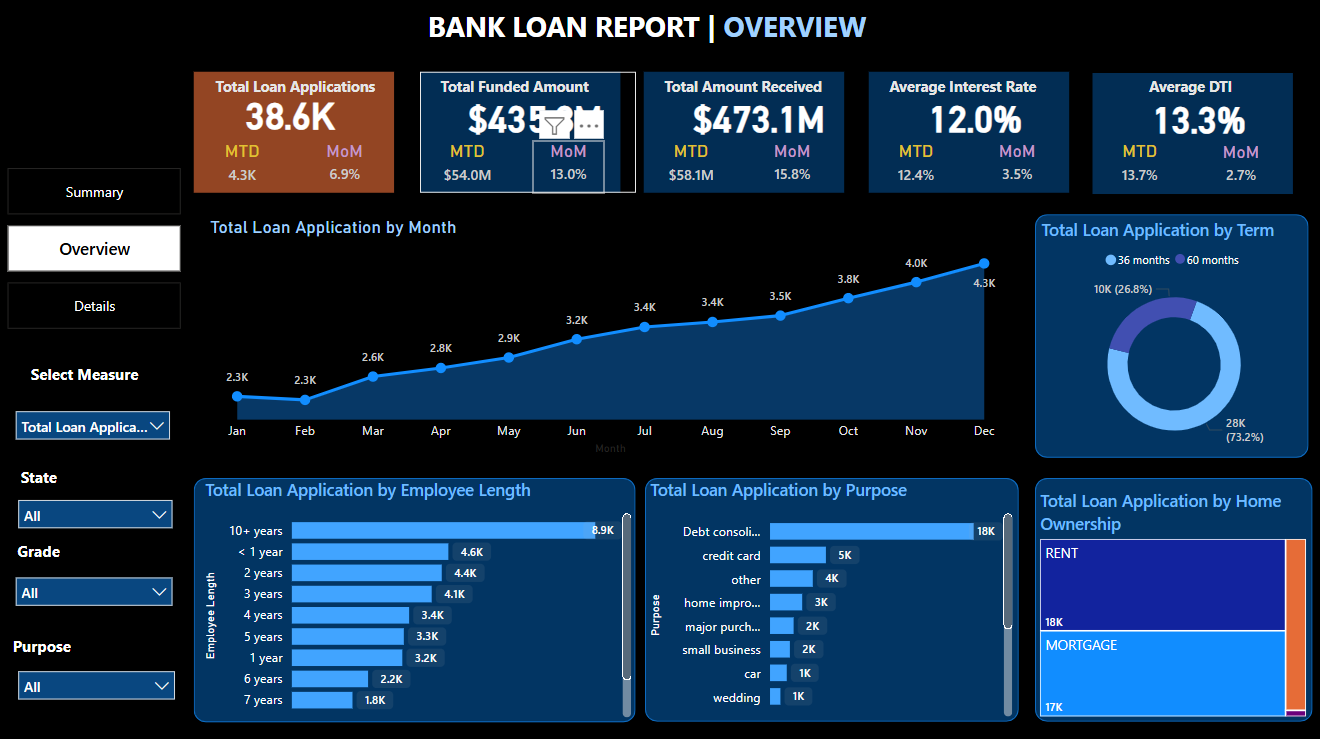

The page's visual inventory and layout, read from the dashboard file:
{"tool":"powerbi","page":{"name":"Overview","canvas":[1280,720],"ordinal":1},"visuals":[{"type":"shape","box":[0,55.5,194.2,664.5],"z":0},{"type":"shape","box":[410.2,71.3,193.7,117],"z":0,"group":"g3"},{"type":"shape","box":[626.7,71.3,193.7,117],"z":0,"group":"g4"},{"type":"shape","box":[843.2,71.3,193.7,117],"z":0,"group":"g5"},{"type":"shape","box":[192.3,71.4,193.7,117],"z":0,"group":"g1"},{"type":"shape","box":[1059.7,71.9,193.7,117],"z":0,"group":"g6"},{"type":"shape","box":[0,0,1280.3,55],"z":1000},{"type":"card","fields":{"Values":["bank_loan_data.Total Loan Application"]},"box":[228.8,76.7,113.6,69.9],"z":1000,"group":"g1"},{"type":"card","fields":{"Values":["bank_loan_data.Total Funded Amount"]},"box":[447.1,82,147.9,64.6],"z":1000,"group":"g3"},{"type":"card","fields":{"Values":["bank_loan_data.Total Amount Received"]},"box":[663.6,82,147.9,64.6],"z":1000,"group":"g4"},{"type":"card","fields":{"Values":["bank_loan_data.Avg Interest Rate"]},"box":[872.1,82.5,147.9,64.6],"z":1000,"group":"g5"},{"type":"card","fields":{"Values":["bank_loan_data.Avg DTI"]},"box":[1088.6,83.1,147.9,64.6],"z":1000,"group":"g6"},{"type":"textbox","box":[204.7,71.3,197.8,40.3],"z":2000,"group":"g1"},{"type":"textbox","box":[420.9,71.3,197.8,40.3],"z":2000,"group":"g3"},{"type":"textbox","box":[637.4,71.3,197.8,40.3],"z":2000,"group":"g4"},{"type":"textbox","box":[853.9,71.3,197.8,40.3],"z":2000,"group":"g5"},{"type":"textbox","box":[1070.1,71.3,169.4,40.3],"z":2000,"group":"g6"},{"type":"textbox","box":[21.7,347.3,136.3,41],"z":2000,"group":"g8"},{"type":"textbox","box":[12.1,447.4,95.3,31.4],"z":2000,"group":"g7"},{"type":"textbox","box":[12.1,517.4,83.2,31.4],"z":2000},{"type":"card","title":"MTD","fields":{"Values":["bank_loan_data.MTD Loan Applications"]},"box":[204.7,137.2,69.5,51.1],"z":3000,"group":"g1"},{"type":"card","title":"MTD","fields":{"Values":["bank_loan_data.MTD Funded Applications"]},"box":[420.9,137.2,69.5,51.1],"z":3000,"group":"g3"},{"type":"card","title":"MTD","fields":{"Values":["bank_loan_data.MTD Total Amount Received"]},"box":[637.4,137.2,69.5,51.1],"z":3000,"group":"g4"},{"type":"card","title":"MTD","fields":{"Values":["bank_loan_data.MTD Average Interest Rate"]},"box":[853.9,137.2,69.5,51.1],"z":3000,"group":"g5"},{"type":"card","title":"MTD","fields":{"Values":["bank_loan_data.MTD Average DTI"]},"box":[1070.4,137.8,69.5,51.1],"z":3000,"group":"g6"},{"type":"textbox","box":[9.6,607.8,156.8,31.4],"z":3000},{"type":"group","id":"g1","title":"Group 2","box":[192.3,71.3,210.2,117.1],"z":3005,"group":"g2"},{"type":"card","title":"MoM","fields":{"Values":["bank_loan_data.MoM Loan Applications"]},"box":[303,138.2,69.5,49.8],"z":4000,"group":"g1"},{"type":"card","title":"MoM","fields":{"Values":["bank_loan_data.MoM Total Funded Amount"]},"box":[519.1,138.2,69.5,49.8],"z":4000,"group":"g3"},{"type":"card","title":"MoM","fields":{"Values":["bank_loan_data.MoM Total Amount Received"]},"box":[735.6,138.2,69.5,49.8],"z":4000,"group":"g4"},{"type":"card","title":"MoM","fields":{"Values":["bank_loan_data.MoM Average Interest Rate"]},"box":[952.1,138.2,69.5,49.8],"z":4000,"group":"g5"},{"type":"card","title":"MoM","fields":{"Values":["bank_loan_data.MoM Average DTI"]},"box":[1168.6,138.9,69.5,49.8],"z":4000,"group":"g6"},{"type":"shape","box":[194.3,208.6,400,235],"z":4000},{"type":"esriVisual","fields":{"Size":["bank_loan_data.Total Amount Received"],"Location":["bank_loan_data.address_state"]},"box":[627.1,209.8,359.4,237.6],"z":5000},{"type":"textbox","box":[412.9,4,520.4,45.7],"z":6000},{"type":"group","id":"g2","title":"Group 1","box":[192.3,71.3,210.2,117.1],"z":7000},{"type":"group","id":"g3","title":"Group 2","box":[410.2,71.3,208.4,117],"z":8000},{"type":"group","id":"g4","title":"Group 2","box":[626.7,71.3,208.4,117],"z":9000},{"type":"group","id":"g5","title":"Group 2","box":[843.2,71.3,208.4,117],"z":10000},{"type":"group","id":"g6","title":"Group 2","box":[1059.7,71.3,193.7,117],"z":11000},{"type":"slicer","fields":{"Values":["bank_loan_data.address_state"]},"box":[12.1,474,168.8,43.4],"z":12000},{"type":"slicer","fields":{"Values":["bank_loan_data.grade"]},"box":[9.6,548.7,171.3,44.6],"z":13000},{"type":"slicer","fields":{"Values":["bank_loan_data.Good Vs Bad Loan"]},"box":[12.1,639.2,171.3,44.6],"z":14000},{"type":"group","id":"g7","title":"Group 2","box":[12.1,447.4,95.3,31.4],"z":15000},{"type":"areaChart","fields":{"Y":["bank_loan_data.Total Amount Received"],"Category":["Date Table.Month"]},"box":[202.6,211.1,378.7,235.2],"z":16000},{"type":"slicer","fields":{"Values":["Select Measure.Select Measure"]},"box":[9.6,388.3,168.8,43.4],"z":17000},{"type":"group","id":"g8","title":"Group 2","box":[21.7,347.3,136.3,41],"z":18000},{"type":"shape","box":[618.7,209.8,360.6,235.2],"z":19000},{"type":"shape","box":[1003.4,208.6,264.1,235.2],"z":20000},{"type":"donutChart","fields":{"Y":["bank_loan_data.Total Amount Received"],"Category":["bank_loan_data.term"]},"box":[1004.6,212.3,266.5,232.8],"z":21000},{"type":"shape","box":[191.8,463.1,400.4,235.2],"z":22000},{"type":"barChart","fields":{"Y":["bank_loan_data.Total Amount Received"],"Category":["bank_loan_data.emp_length"]},"box":[197.8,463.1,390.8,235.2],"z":23000},{"type":"shape","box":[627.1,463.1,360.6,235.2],"z":24000},{"type":"barChart","fields":{"Y":["bank_loan_data.Total Amount Received"],"Category":["bank_loan_data.purpose"]},"box":[627.1,463.1,359.4,235.2],"z":25000},{"type":"shape","box":[1003.4,463.1,267.7,235.2],"z":26000},{"type":"treemap","fields":{"Values":["bank_loan_data.Total Amount Received"],"Group":["bank_loan_data.home_ownership"]},"box":[1003.4,474,266.5,224.3],"z":27000},{"type":"pageNavigator","box":[12.1,164,168.8,158],"z":28000},{"type":"filledMap","title":"Total Loan Application by Address State","fields":{"Y":["bank_loan_data.Total Amount Received"],"Category":["bank_loan_data.address_state"]},"box":[623.5,219.5,352.2,211.1],"z":29000}]}

Visuals, with their boxes in screenshot pixels (x1, y1, x2, y2), scaled from the page's 1280x720 canvas onto the 1320x739 screenshot:
shape: bbox(0, 57, 200, 738)
shape: bbox(423, 73, 623, 193)
shape: bbox(646, 73, 846, 193)
shape: bbox(870, 73, 1069, 193)
shape: bbox(198, 73, 398, 193)
shape: bbox(1093, 74, 1293, 194)
shape: bbox(0, 0, 1319, 56)
card - bank_loan_data.Total Loan Application: bbox(236, 79, 353, 150)
card - bank_loan_data.Total Funded Amount: bbox(461, 84, 614, 150)
card - bank_loan_data.Total Amount Received: bbox(684, 84, 837, 150)
card - bank_loan_data.Avg Interest Rate: bbox(899, 85, 1052, 151)
card - bank_loan_data.Avg DTI: bbox(1123, 85, 1275, 152)
textbox: bbox(211, 73, 415, 115)
textbox: bbox(434, 73, 638, 115)
textbox: bbox(657, 73, 861, 115)
textbox: bbox(881, 73, 1085, 115)
textbox: bbox(1104, 73, 1278, 115)
textbox: bbox(22, 356, 163, 399)
textbox: bbox(12, 459, 111, 491)
textbox: bbox(12, 531, 98, 563)
"MTD" card: bbox(211, 141, 283, 193)
"MTD" card: bbox(434, 141, 506, 193)
"MTD" card: bbox(657, 141, 729, 193)
"MTD" card: bbox(881, 141, 952, 193)
"MTD" card: bbox(1104, 141, 1176, 194)
textbox: bbox(10, 624, 172, 656)
"Group 2" group: bbox(198, 73, 415, 193)
"MoM" card: bbox(312, 142, 384, 193)
"MoM" card: bbox(535, 142, 607, 193)
"MoM" card: bbox(759, 142, 830, 193)
"MoM" card: bbox(982, 142, 1054, 193)
"MoM" card: bbox(1205, 143, 1277, 194)
shape: bbox(200, 214, 613, 455)
esriVisual - bank_loan_data.Total Amount Received x bank_loan_data.address_state: bbox(647, 215, 1017, 459)
textbox: bbox(426, 4, 962, 51)
"Group 1" group: bbox(198, 73, 415, 193)
"Group 2" group: bbox(423, 73, 638, 193)
"Group 2" group: bbox(646, 73, 861, 193)
"Group 2" group: bbox(870, 73, 1084, 193)
"Group 2" group: bbox(1093, 73, 1293, 193)
slicer - bank_loan_data.address_state: bbox(12, 487, 187, 531)
slicer - bank_loan_data.grade: bbox(10, 563, 187, 609)
slicer - bank_loan_data.Good Vs Bad Loan: bbox(12, 656, 189, 702)
"Group 2" group: bbox(12, 459, 111, 491)
areaChart - bank_loan_data.Total Amount Received x Date Table.Month: bbox(209, 217, 599, 458)
slicer - Select Measure.Select Measure: bbox(10, 399, 184, 443)
"Group 2" group: bbox(22, 356, 163, 399)
shape: bbox(638, 215, 1010, 457)
shape: bbox(1035, 214, 1307, 456)
donutChart - bank_loan_data.Total Amount Received x bank_loan_data.term: bbox(1036, 218, 1311, 457)
shape: bbox(198, 475, 611, 717)
barChart - bank_loan_data.Total Amount Received x bank_loan_data.emp_length: bbox(204, 475, 607, 717)
shape: bbox(647, 475, 1019, 717)
barChart - bank_loan_data.Total Amount Received x bank_loan_data.purpose: bbox(647, 475, 1017, 717)
shape: bbox(1035, 475, 1311, 717)
treemap - bank_loan_data.Total Amount Received x bank_loan_data.home_ownership: bbox(1035, 487, 1310, 717)
pageNavigator: bbox(12, 168, 187, 330)
"Total Loan Application by Address State" filledMap: bbox(643, 225, 1006, 442)
